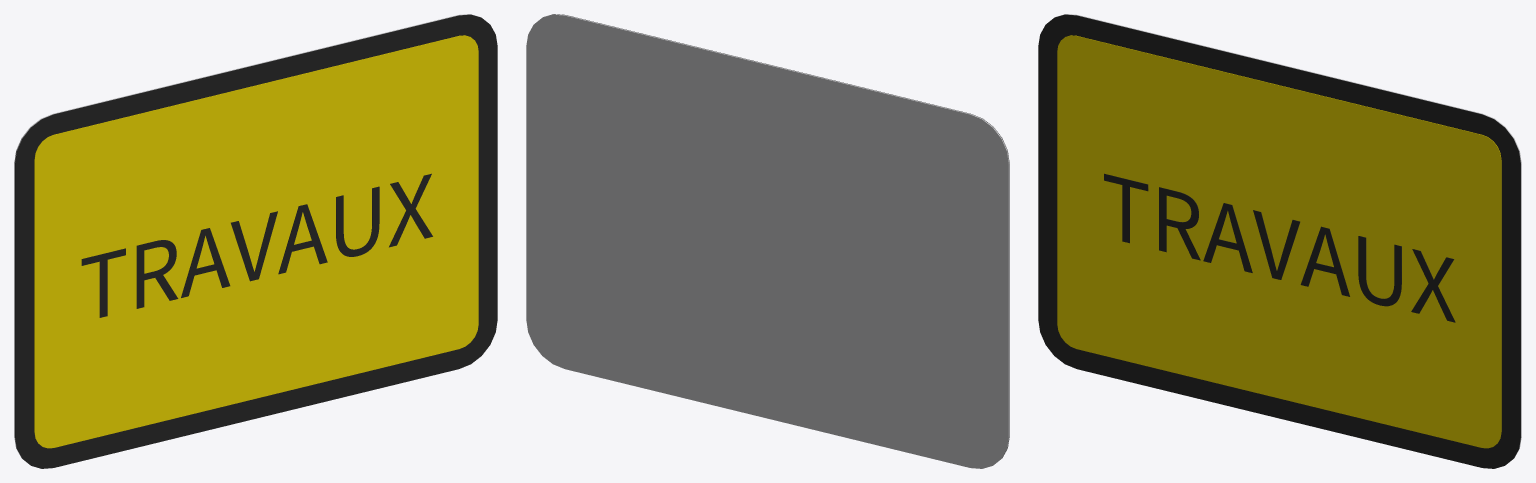
3 views of the same model, side by side, from view 1: azimuth 30°, elevation 25°; view 2: azimuth 150°, elevation 25°; view 3: azimuth 330°, elevation 25° (orthographic).
Parts seen in each view (by area): view 1: KM9_r01, KM9_r00, KM9_txt02, KM9_dos; view 2: KM9_dos, KM9_r00; view 3: KM9_r01, KM9_r00, KM9_txt02, KM9_dos.
Part boxes in pixels (<box>): KM9_r01: <box>34,35,478,448</box>; KM9_r00: <box>15,14,497,468</box>; KM9_txt02: <box>81,173,432,317</box>; KM9_dos: <box>14,14,480,458</box>; KM9_dos: <box>526,14,1009,468</box>; KM9_r00: <box>552,14,1009,456</box>; KM9_r01: <box>1057,35,1501,448</box>; KM9_r00: <box>1038,14,1520,468</box>; KM9_txt02: <box>1104,173,1455,322</box>; KM9_dos: <box>1055,14,1521,458</box>.
Size of the model in its own units: 0.5 by 0.35 by 0.0025.
